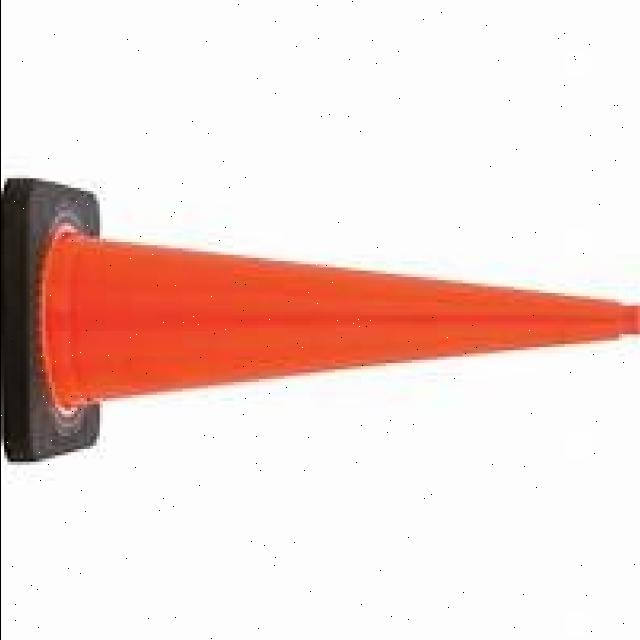traffic cone: (1, 170, 640, 485)
